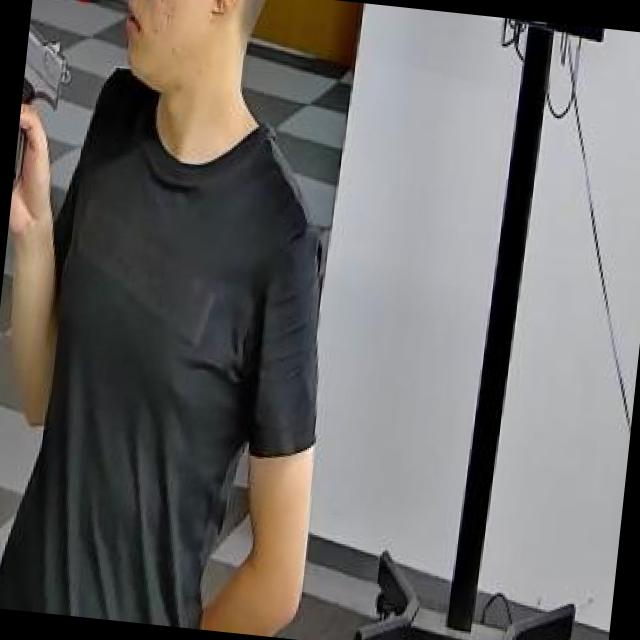Guns: (12, 0, 95, 195)
